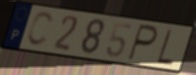2: (51, 14, 78, 53)
5: (105, 21, 133, 59)
8: (79, 18, 106, 56)
C: (25, 10, 55, 49)
L: (155, 28, 175, 68)
P: (125, 23, 160, 63)
